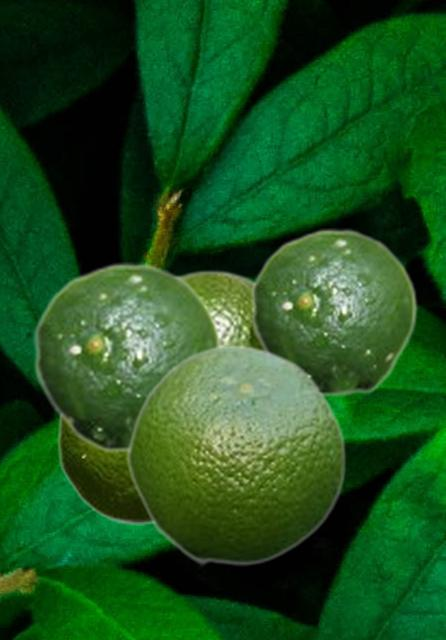calamansi: (125, 342, 346, 565), (33, 262, 222, 453), (250, 228, 417, 397), (56, 415, 150, 524), (172, 269, 259, 346)
